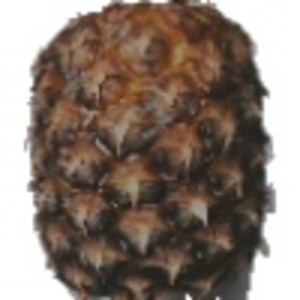abacaxi: (19, 3, 280, 293)
